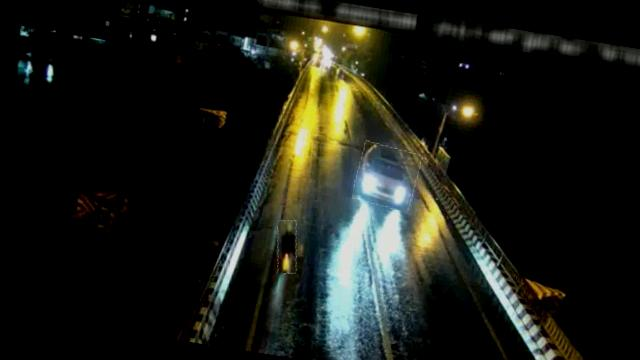Bike: (272, 219, 302, 274)
Car: (352, 142, 422, 212)
